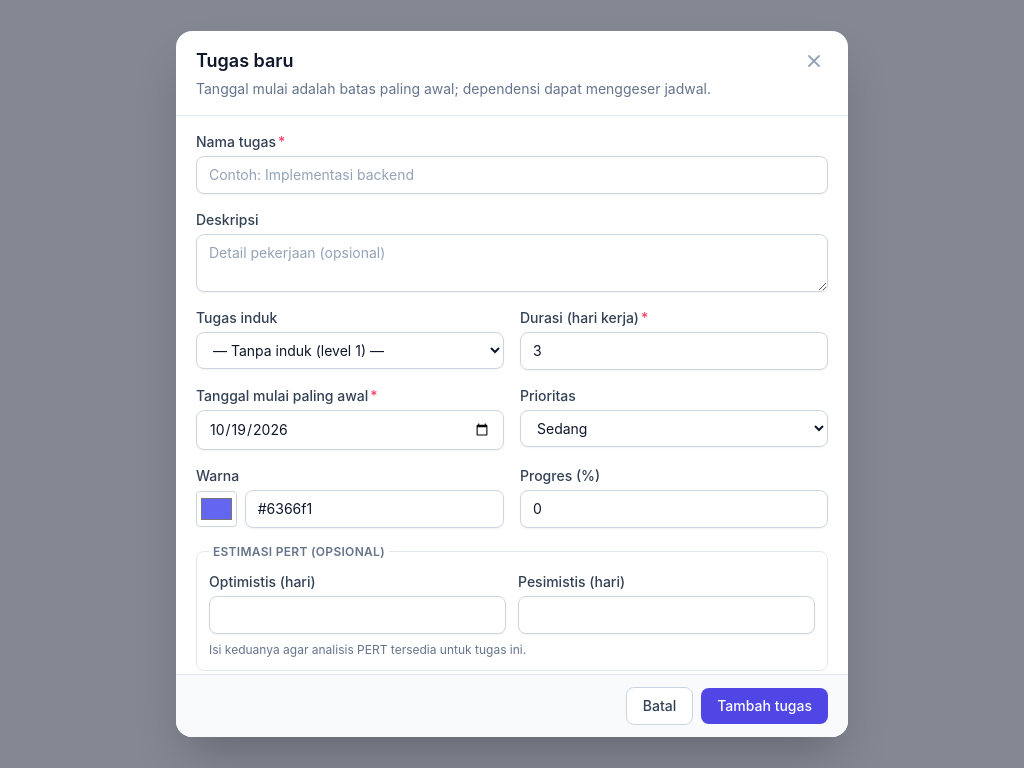
Scenario: TaskFormDialog › menampilkan validasi ketika nama dan durasi tidak valid
Clear the field labelled "Nama tugas*" at (512, 175), box [196, 156, 828, 194]
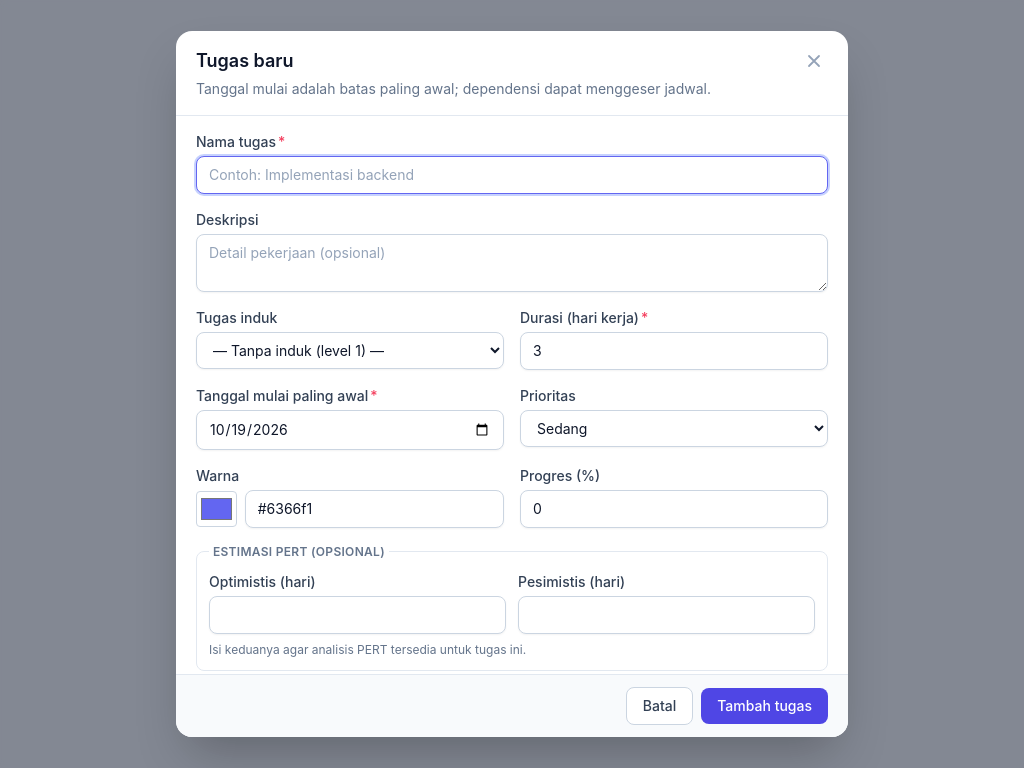
Clear the number field labelled "Durasi (hari kerja)*" at (674, 351), box [520, 332, 828, 370]
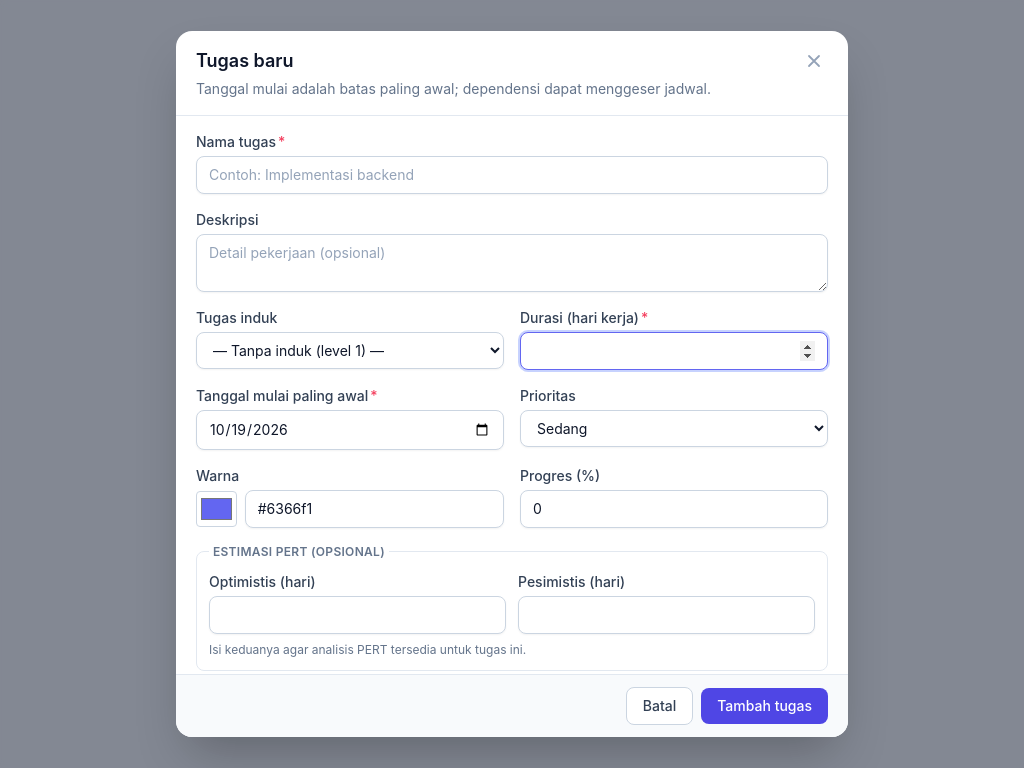
Submit the form with id "task-form", box [196, 132, 828, 671]
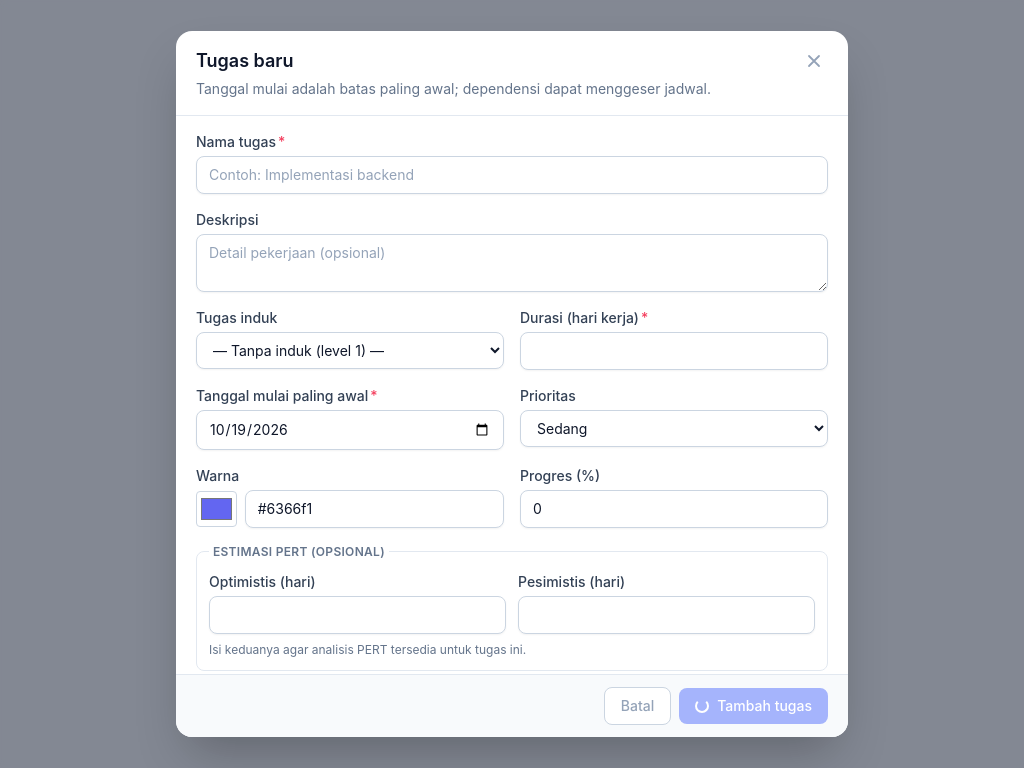
Clear the number field labelled "Durasi (hari kerja)*" at (674, 351), box [520, 332, 828, 370]
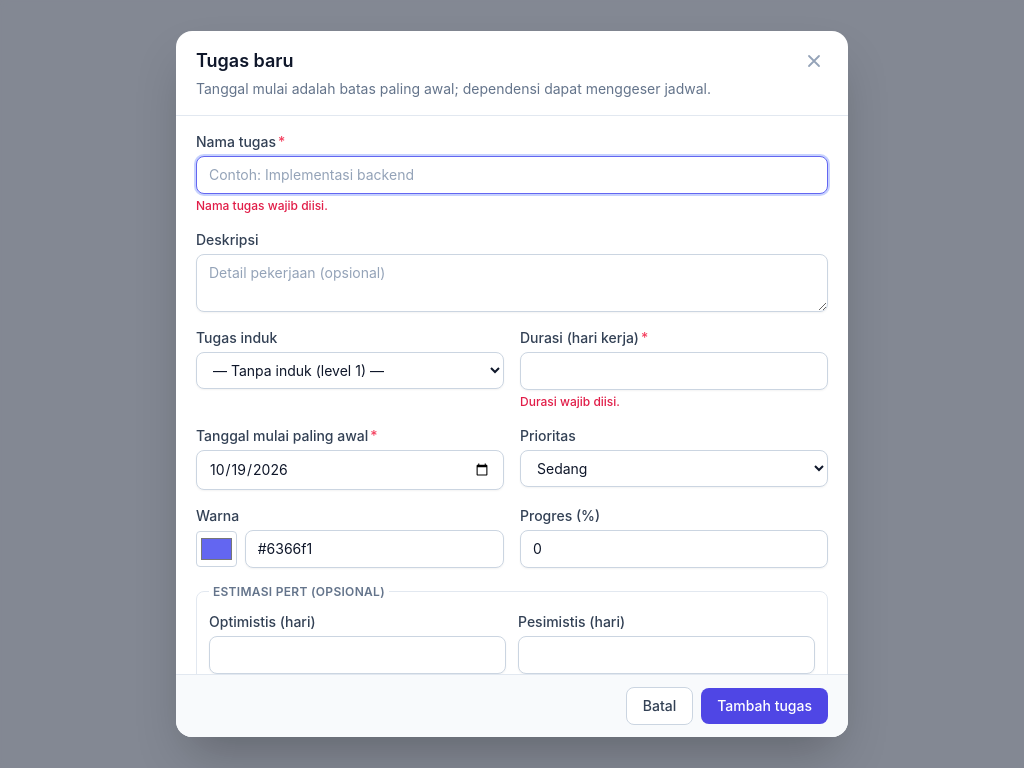
Expected: the text "Nama tugas wajib diisi." is shown, [196, 198, 328, 213]
Expected: the text "Durasi wajib diisi." is shown, [520, 394, 620, 409]
